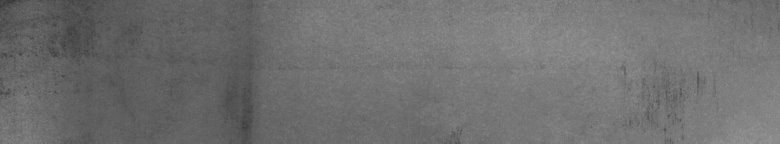ka: (620, 66, 700, 132)
